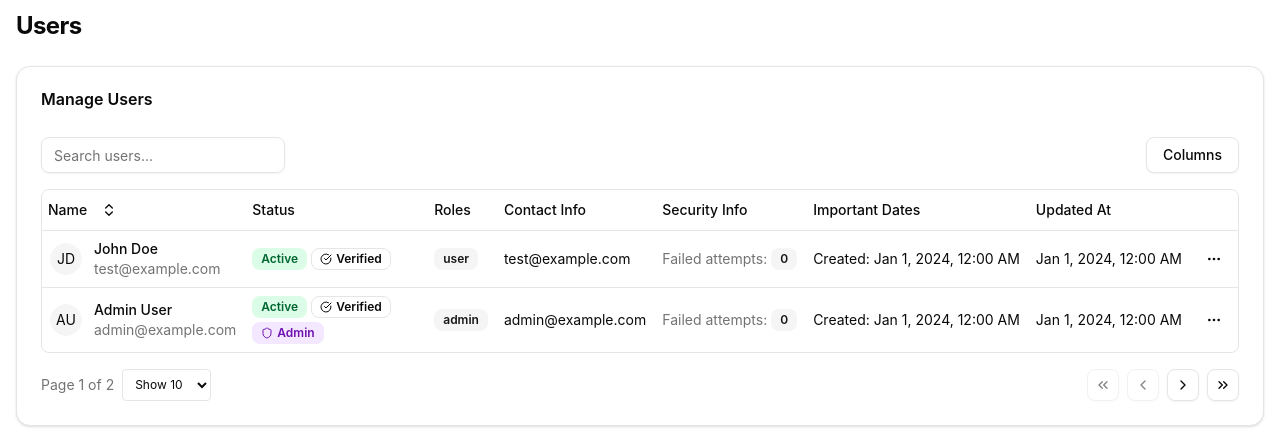
it: UsersList Component › Permission-Based Behavior › hides delete action when user lacks delete permission
This screenshot has width=1281, height=444.
Step 1. Click the 1st button named "open menu" → (1214, 258), box left=1198, top=242, right=1230, bottom=274
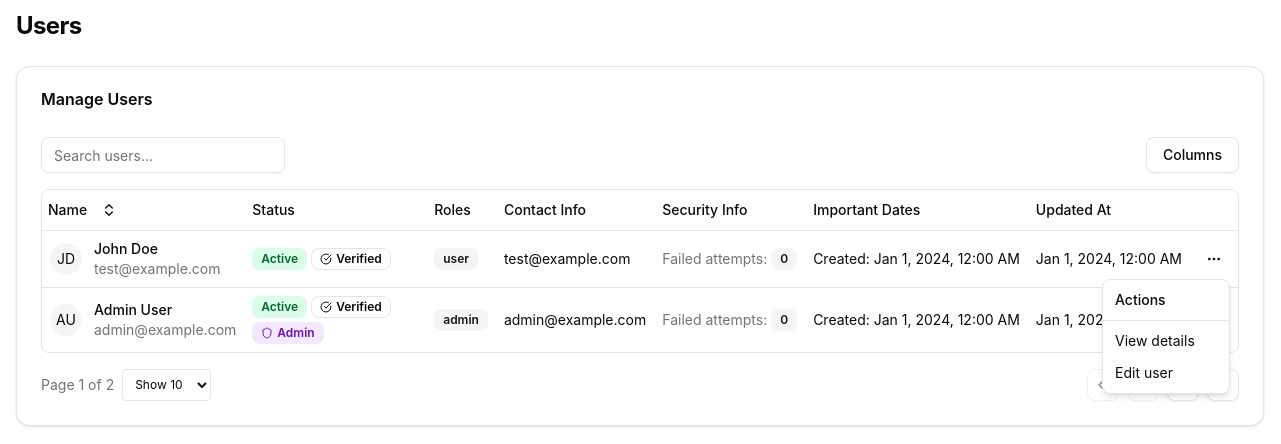
Now the menu item "View details" is shown, box left=1115, top=332, right=1195, bottom=349
Now the menu item "Edit user" is shown, box left=1115, top=364, right=1173, bottom=381
